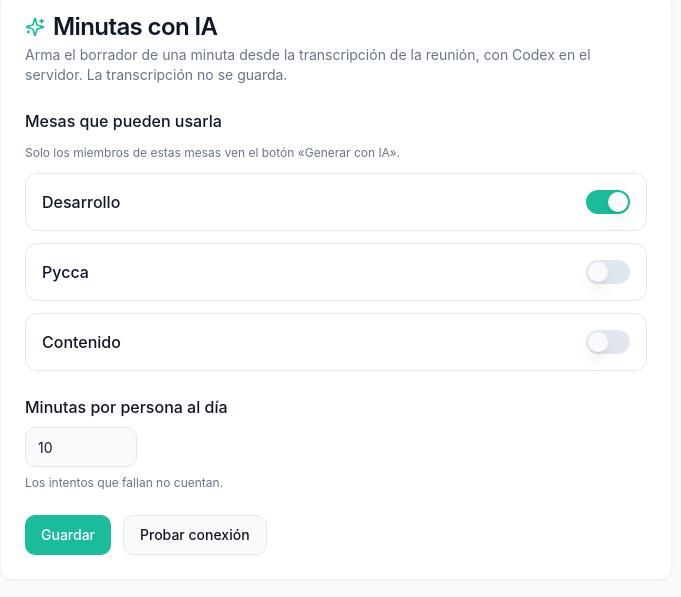
Scenario: ConfigMinutasIa › prueba la conexión con Codex y muestra el resultado
Click the button "Probar conexión": (195, 535) [123,515,267,555]
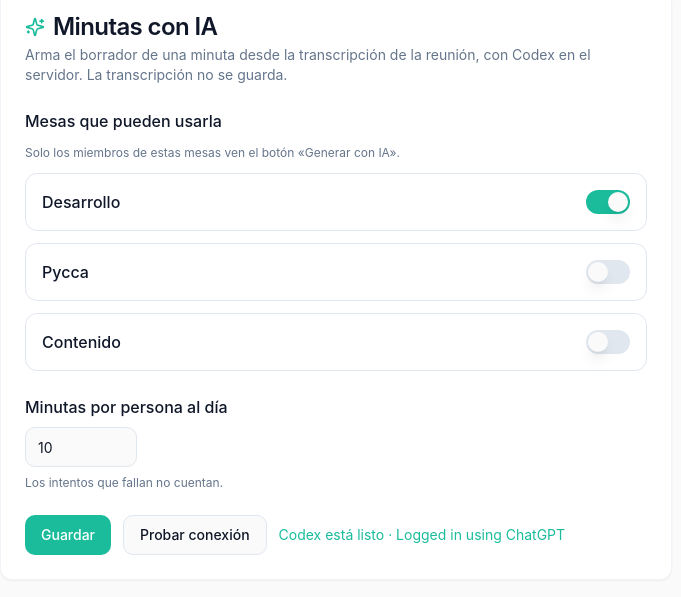
Check: the text "Codex está listo · Logged in using ChatGPT" is shown, box [279,525,565,545]
Click the button "Probar conexión": (195, 535) [123,515,267,555]
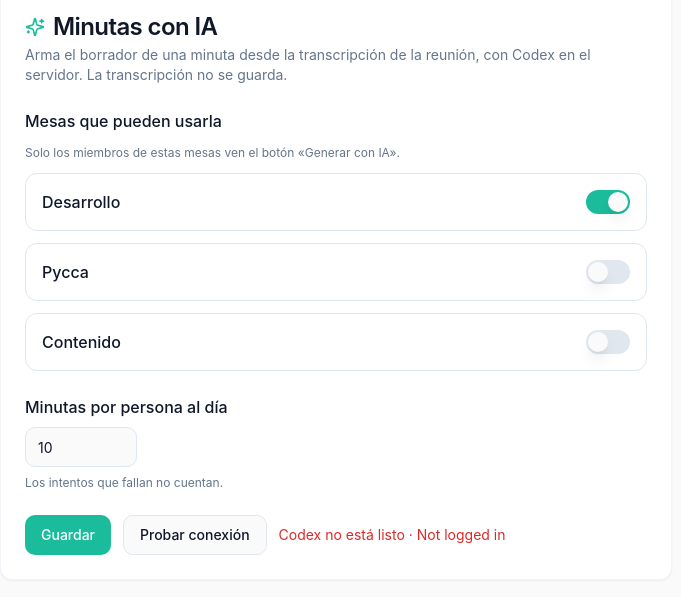
Check: the text "Codex no está listo · Not logged in" is shown, box [279,525,506,545]
